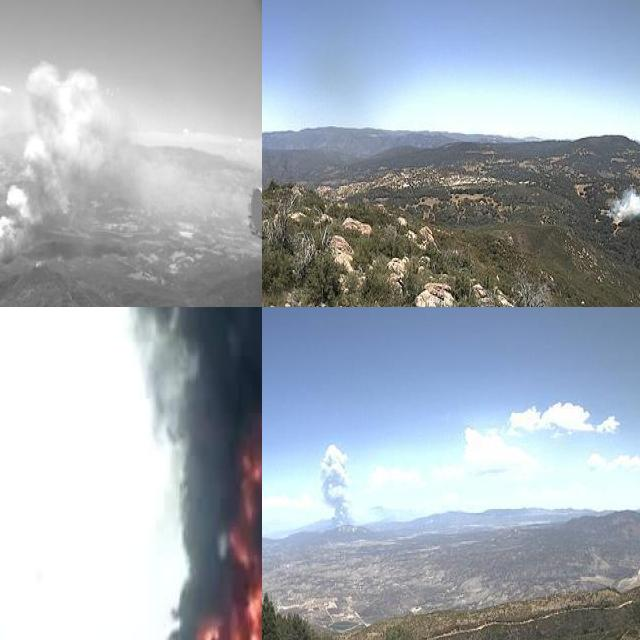fire: (165, 404, 262, 640)
smoke: (0, 57, 216, 261), (130, 307, 262, 640), (315, 438, 360, 534), (604, 139, 640, 228)
